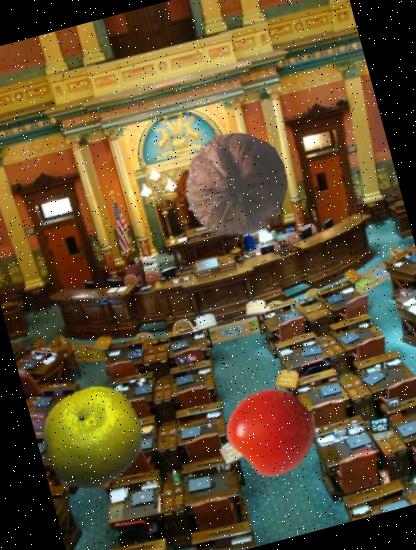Pomelo: (30, 374, 157, 502)
Tomato: (220, 378, 326, 485)
Walnut: (170, 118, 302, 250)
